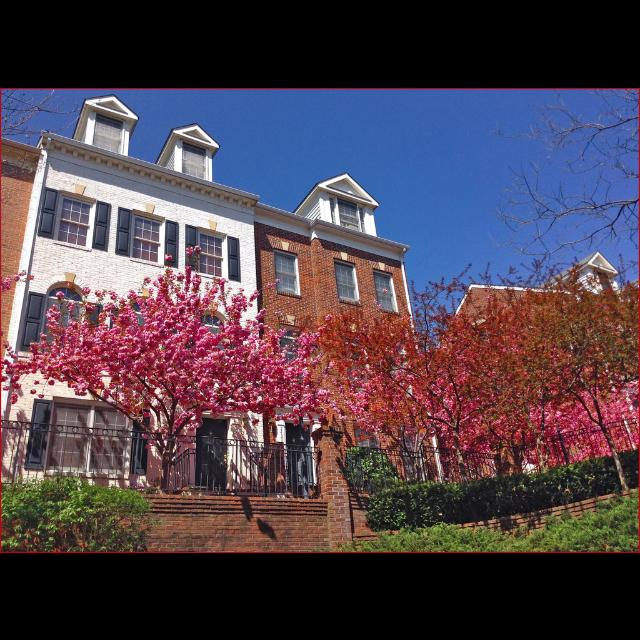Flower: (1, 242, 640, 483), (202, 350, 222, 370), (254, 359, 264, 365)
